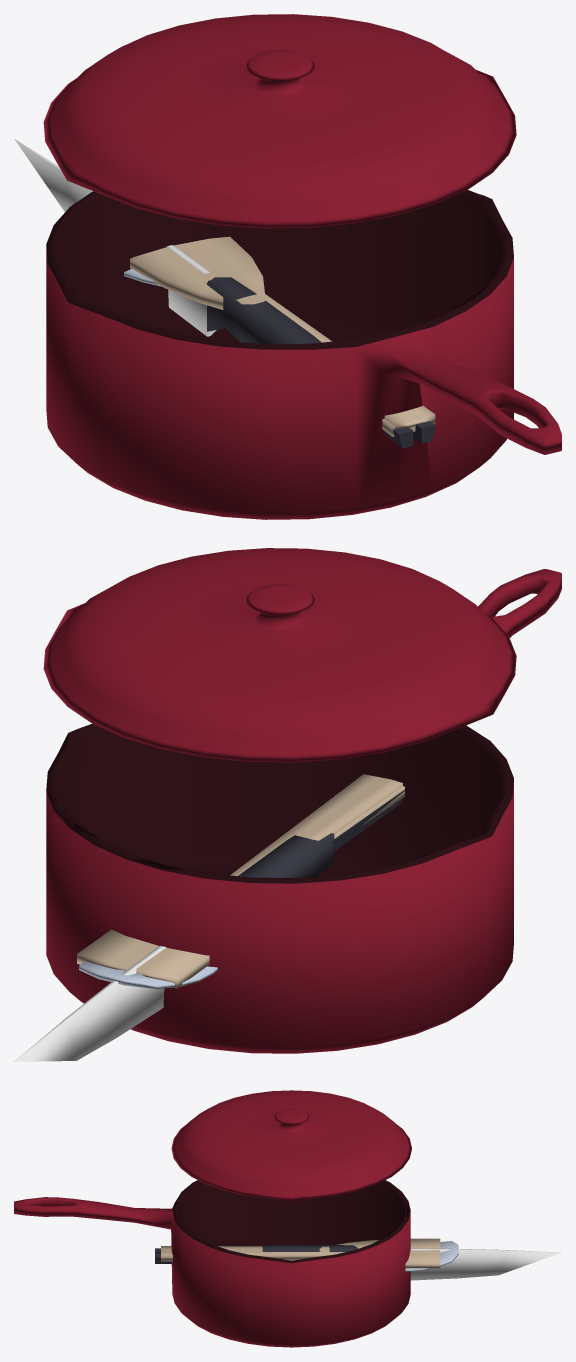
Rendered from Cooking Tools.fbx.
3 renders of one model, top to bottom at view 1: azimuth 30°, elevation 25°; view 2: azimuth 150°, elevation 25°; view 3: azimuth 270°, elevation 25°, orthographic. The views are drawn at different scales.
Parts seen in each view (by area): view 1: Sauce Pan, Sauce Pan.001, Spatula.001, Knife, Chopstick; view 2: Sauce Pan, Sauce Pan.001, Knife, Spatula.001, Spatula, Chopstick; view 3: Sauce Pan, Sauce Pan.001, Knife, Spatula.001, Spatula.
Part boxes in pixels (<box>): Sauce Pan: <box>46,190,561,519</box>; Sauce Pan.001: <box>43,14,516,228</box>; Spatula.001: <box>130,236,435,429</box>; Knife: <box>14,138,321,344</box>; Chopstick: <box>384,421,435,448</box>; Sauce Pan: <box>46,569,561,1053</box>; Sauce Pan.001: <box>43,548,516,762</box>; Knife: <box>14,833,334,1061</box>; Spatula.001: <box>77,774,402,988</box>; Spatula: <box>79,786,404,988</box>; Chopstick: <box>332,790,404,850</box>; Sauce Pan: <box>14,1180,410,1347</box>; Sauce Pan.001: <box>171,1090,411,1201</box>; Knife: <box>250,1245,560,1280</box>; Spatula.001: <box>161,1238,440,1268</box>; Spatula: <box>161,1241,458,1271</box>.
Size of the model in its own units: 2.1 by 1.74 by 4.6.
